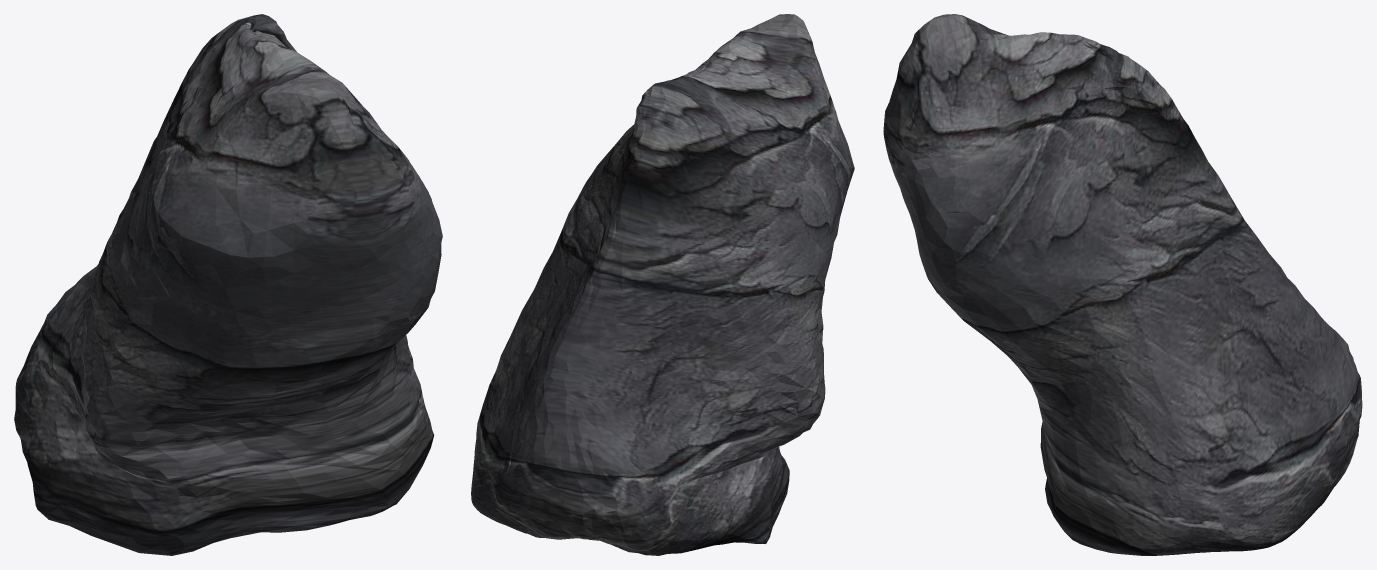
The model's file is BIGrock1.fbx.
The picture shows the model from 3 angles, left to right: view 1: azimuth 30°, elevation 25°; view 2: azimuth 150°, elevation 25°; view 3: azimuth 270°, elevation 25°; orthographic projection. The views are drawn at different scales.
Parts seen in each view (by area): view 1: rock.009; view 2: rock.009; view 3: rock.009.
Boxes of the visible parts, box(x1,y1,x2,y2) form: rock.009: box(14, 14, 442, 555); rock.009: box(471, 14, 854, 555); rock.009: box(883, 14, 1362, 555).
Size of the model in its own units: 1598 by 2155 by 2045.
